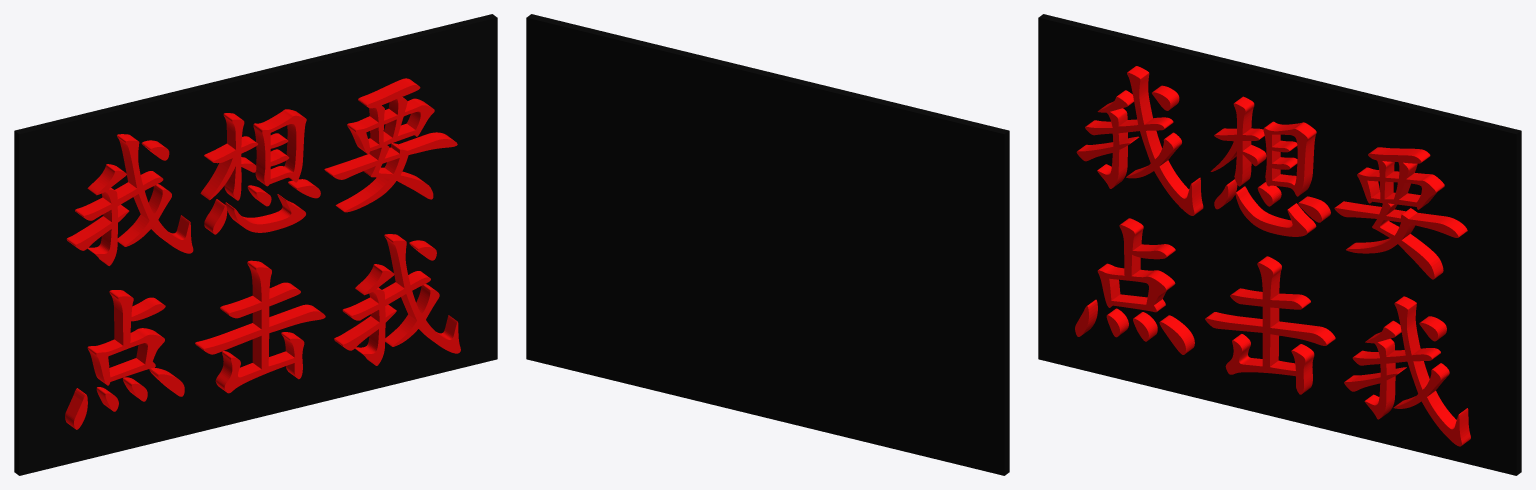
Rendered from wo xiang yao.FBX.
3 views of the same model, side by side, from view 1: azimuth 30°, elevation 25°; view 2: azimuth 150°, elevation 25°; view 3: azimuth 330°, elevation 25° (orthographic).
Parts seen in each view (by area): view 1: Box001, Text001; view 2: Box001; view 3: Box001, Text001.
Part boxes in pixels (x1,y1,x2,y2): Box001: [14, 14, 497, 475]; Text001: [65, 78, 460, 429]; Box001: [526, 14, 1009, 475]; Box001: [1038, 14, 1521, 475]; Text001: [1075, 66, 1470, 446].
Size of the model in its own units: 0.3436 by 0.2347 by 0.0174.
